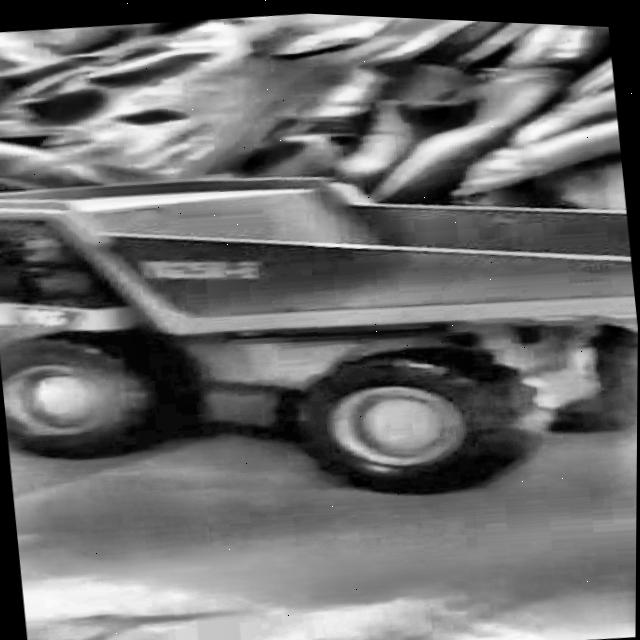dump_truck: (0, 117, 639, 521)
